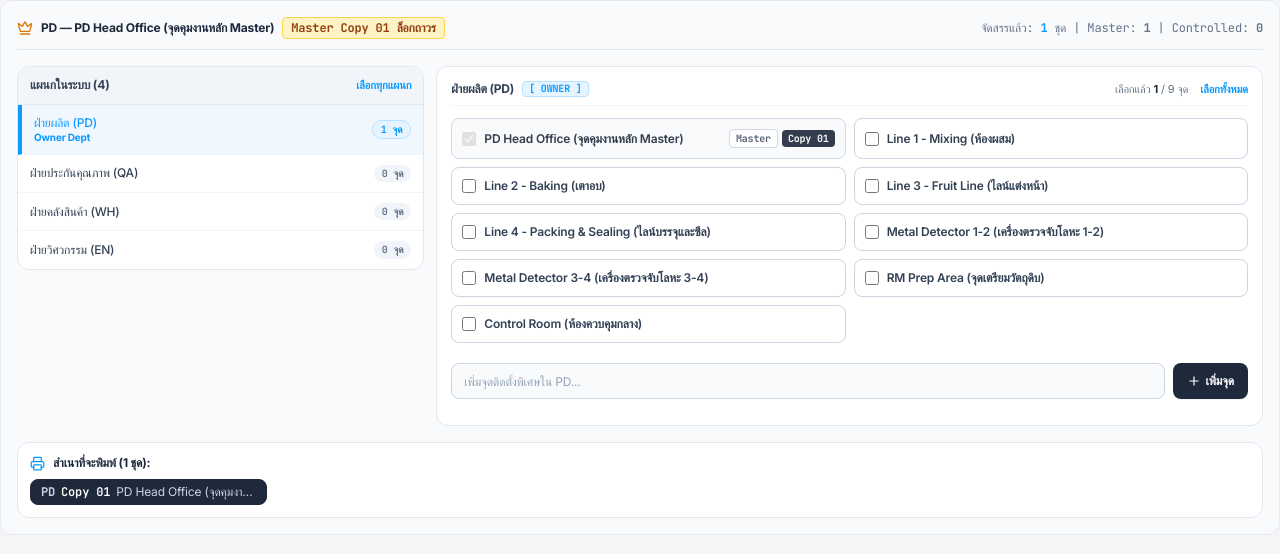
Test: Enterprise UX/UI Overhaul: High-Density Access Scope & Distribution Matrix Tests › 2. DistributionSetup (Dual-Pane Master-Detail Matrix) › Inline Quick Add: Allows adding ad-hoc custom station to the active department
This screenshot has width=1280, height=554.
Type "Line 9 Cleanroom Zone" into the field with placeholder "เพิ่มจุดติดตั้งพิเศษใน PD...".
click(808, 381); type("Line 9 Cleanroom Zone")  # box [451,363,1165,399]
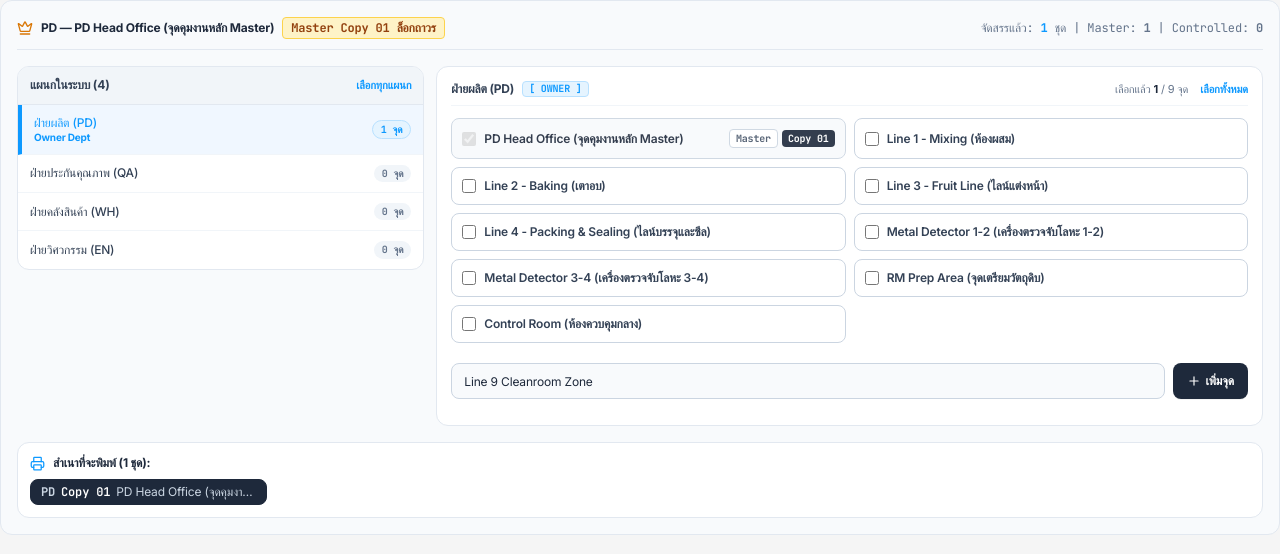
Click the button "เพิ่มจุด".
click(1211, 381)  # box [1174,363,1248,399]
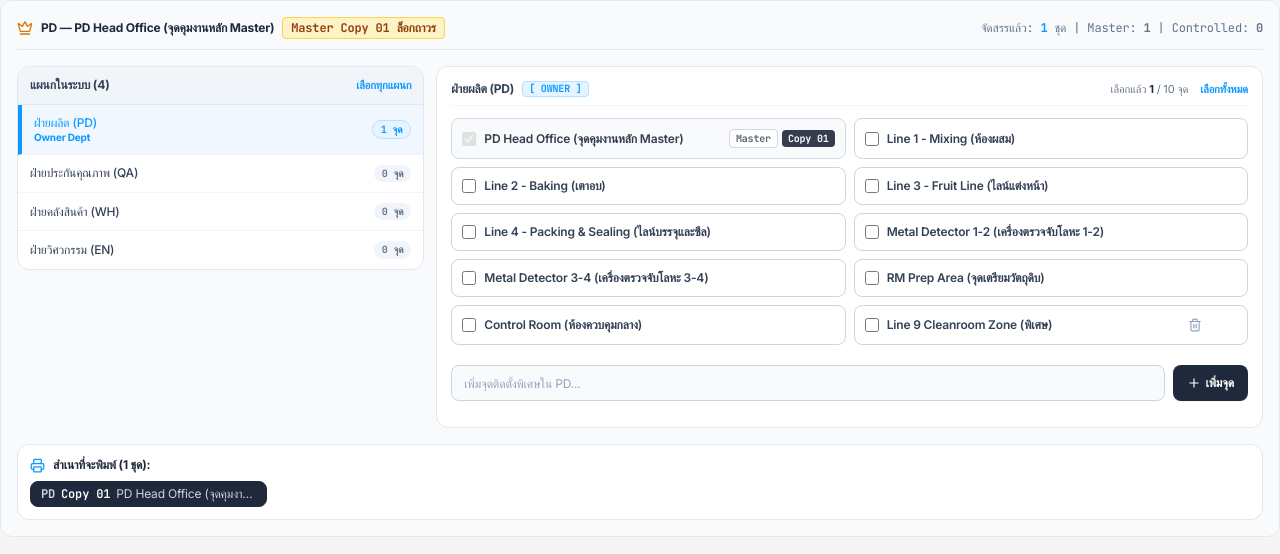
Expected: the text "Line 9 Cleanroom Zone (พิเศษ)" is shown, [887,317,1052,333]
